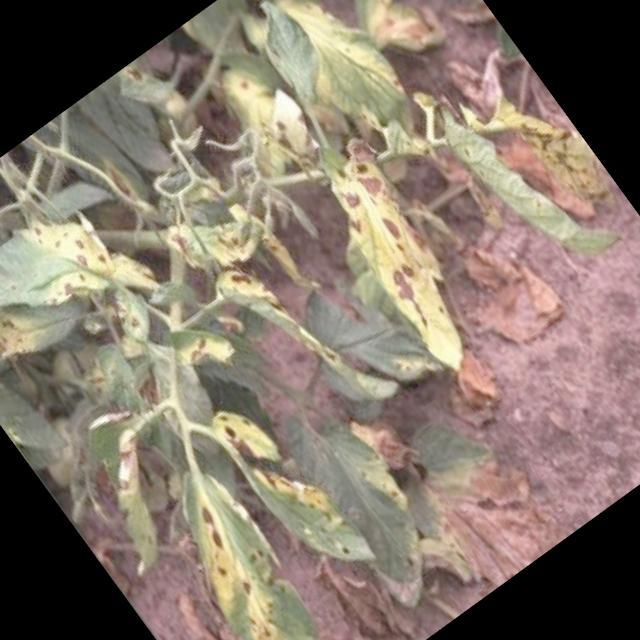Tomato Early blight leaf: (302, 140, 499, 378), (269, 382, 463, 610), (0, 156, 183, 396), (136, 450, 366, 640), (207, 224, 403, 446), (204, 383, 376, 584), (49, 393, 216, 574), (256, 0, 424, 158)
